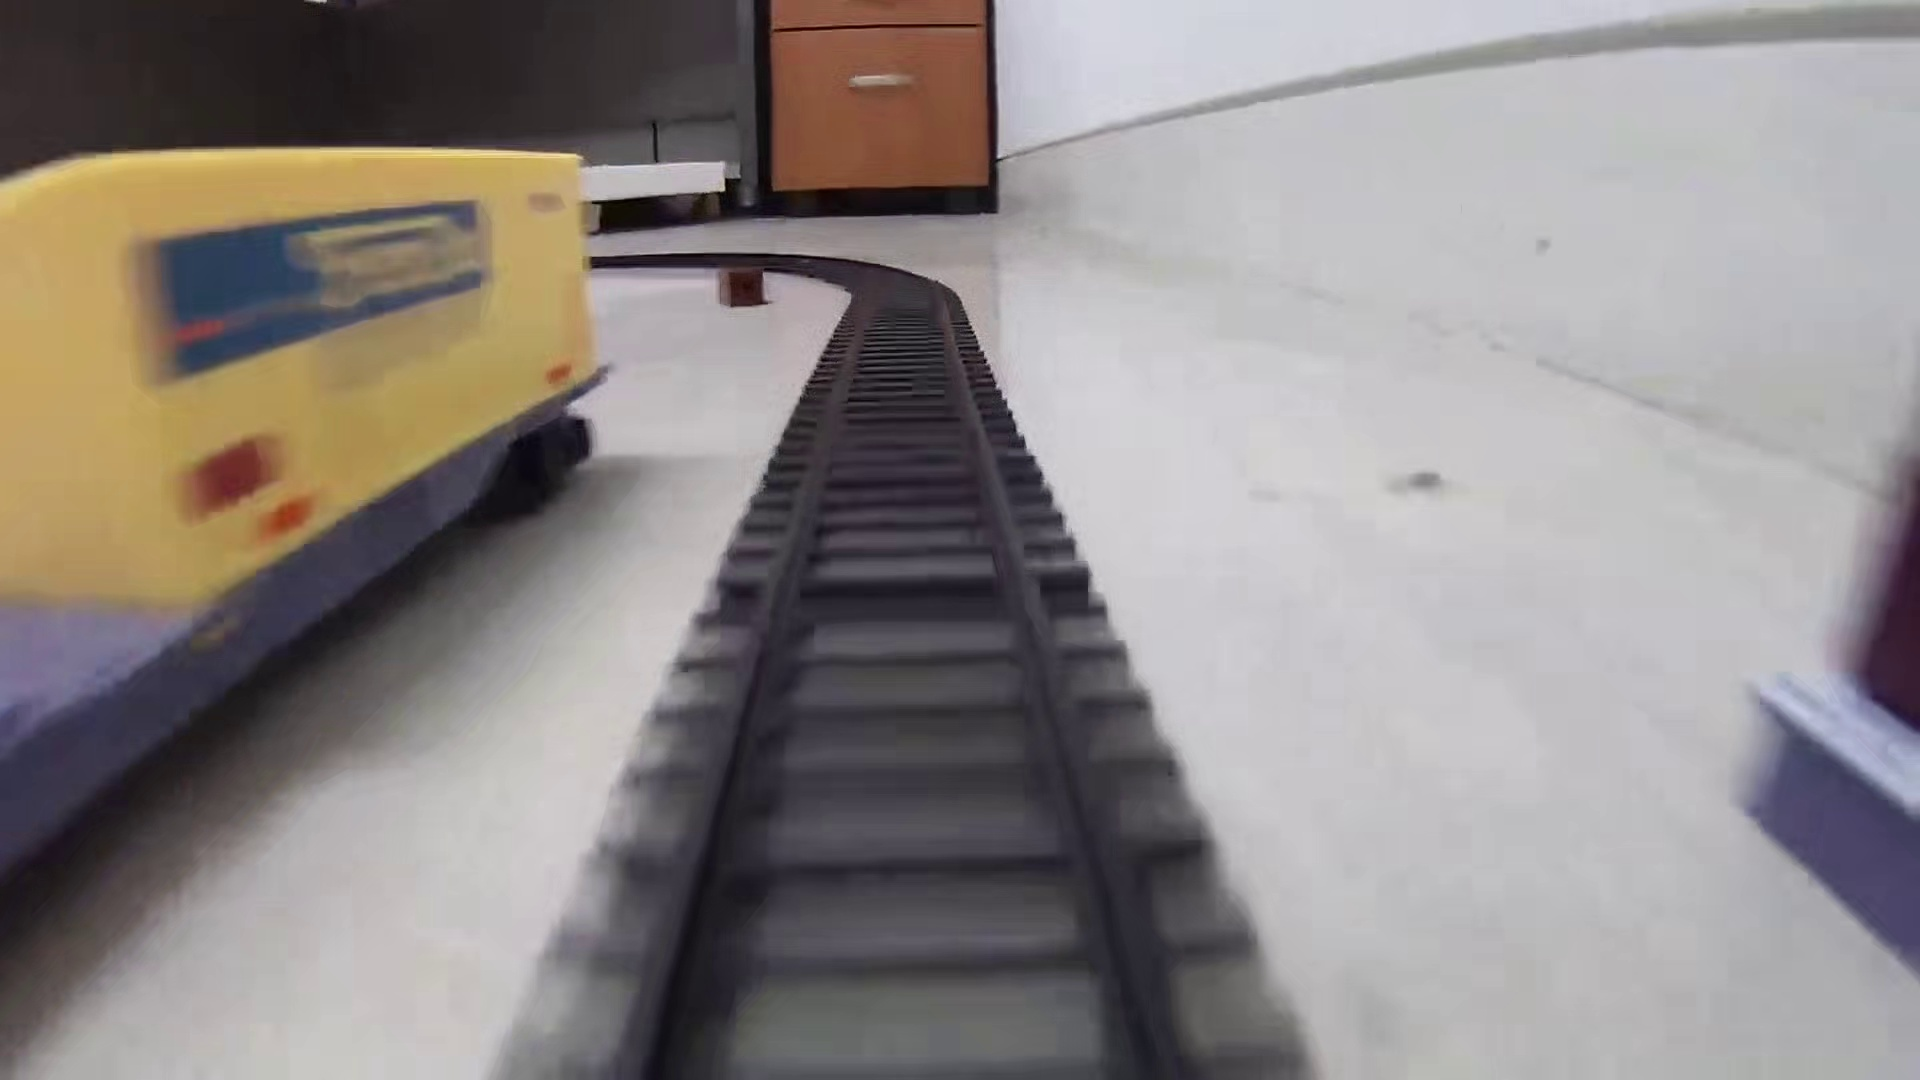box: (714, 262, 770, 309)
